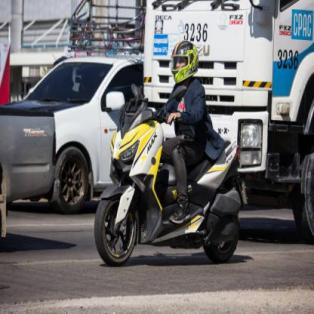Motocicleta: (95, 87, 242, 265)
